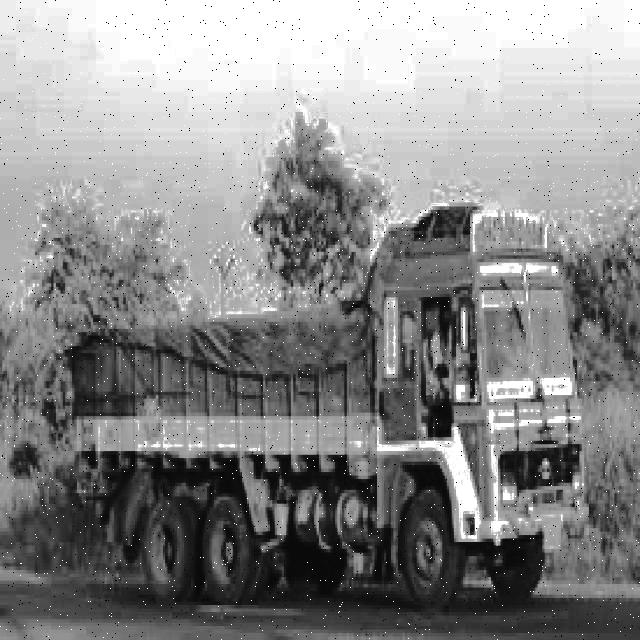HCV: (56, 192, 590, 620)
